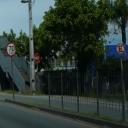speed_limit_70: (6, 42, 16, 57)
